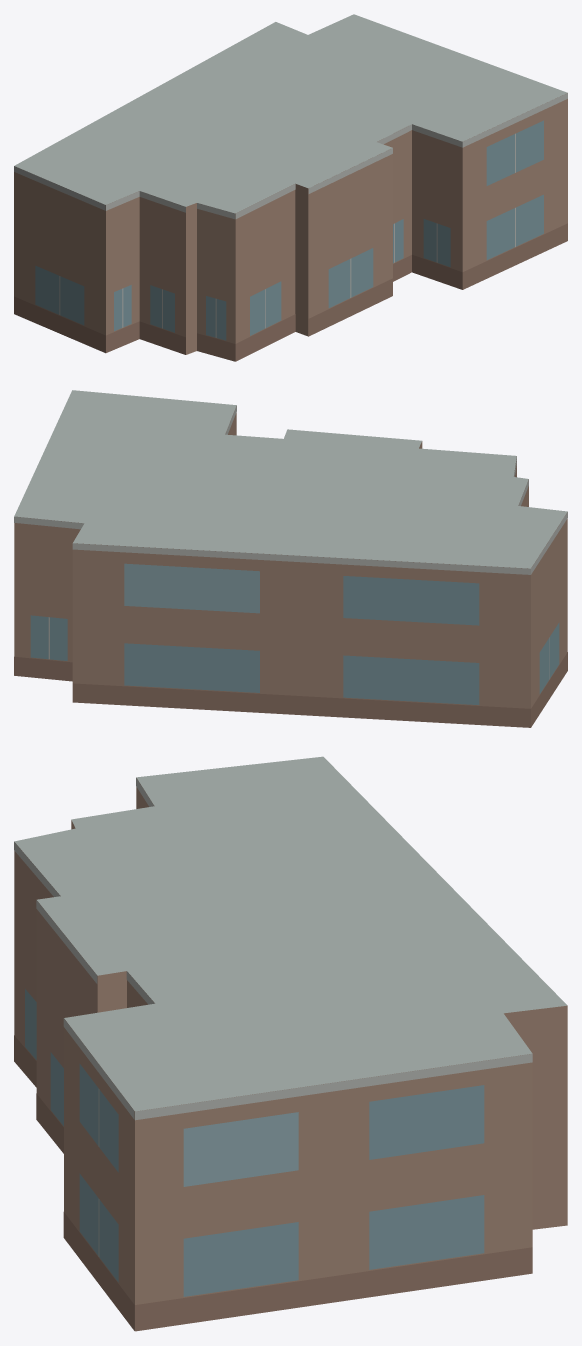
Rendered from survey-upis-32836897.glb.
3 renders of one model, top to bottom at view 1: azimuth 30°, elevation 25°; view 2: azimuth 150°, elevation 25°; view 3: azimuth 270°, elevation 25°, orthographic. The views are drawn at different scales.
Parts seen in each view (by area): view 1: survey-upis-32836897.tmp; view 2: survey-upis-32836897.tmp; view 3: survey-upis-32836897.tmp.
Boxes of the visible parts, x1,y1,x2,y2 form: survey-upis-32836897.tmp: [14, 14, 567, 361]; survey-upis-32836897.tmp: [14, 390, 567, 727]; survey-upis-32836897.tmp: [14, 756, 567, 1331].
Size of the model in its own units: 21.13 by 6.1 by 13.93.
